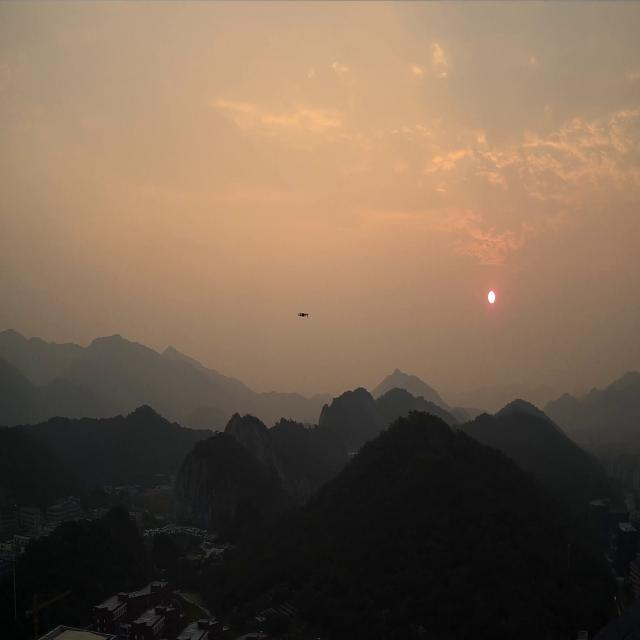drone: (297, 311, 310, 318)
